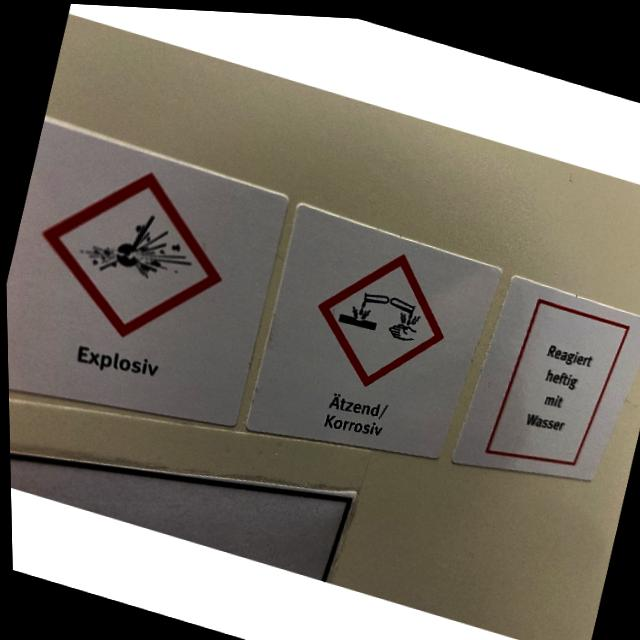corrosive: (330, 273, 427, 347)
explosive: (71, 194, 198, 298)
